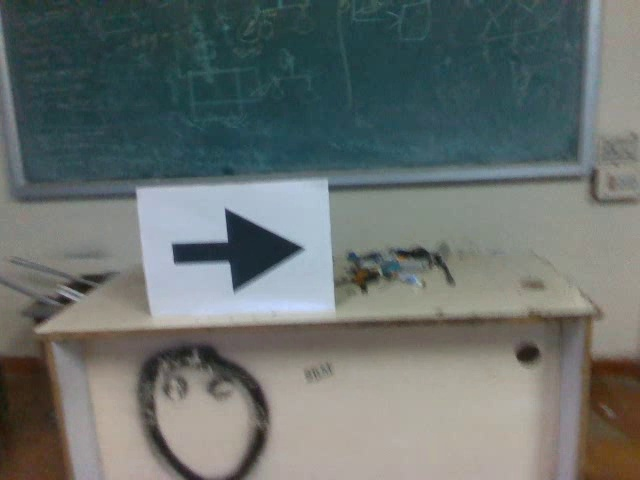Right: (161, 200, 307, 298)
